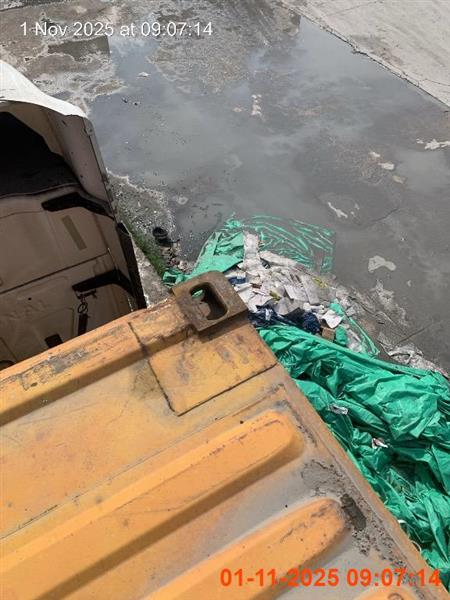rust: (0, 269, 449, 599)
